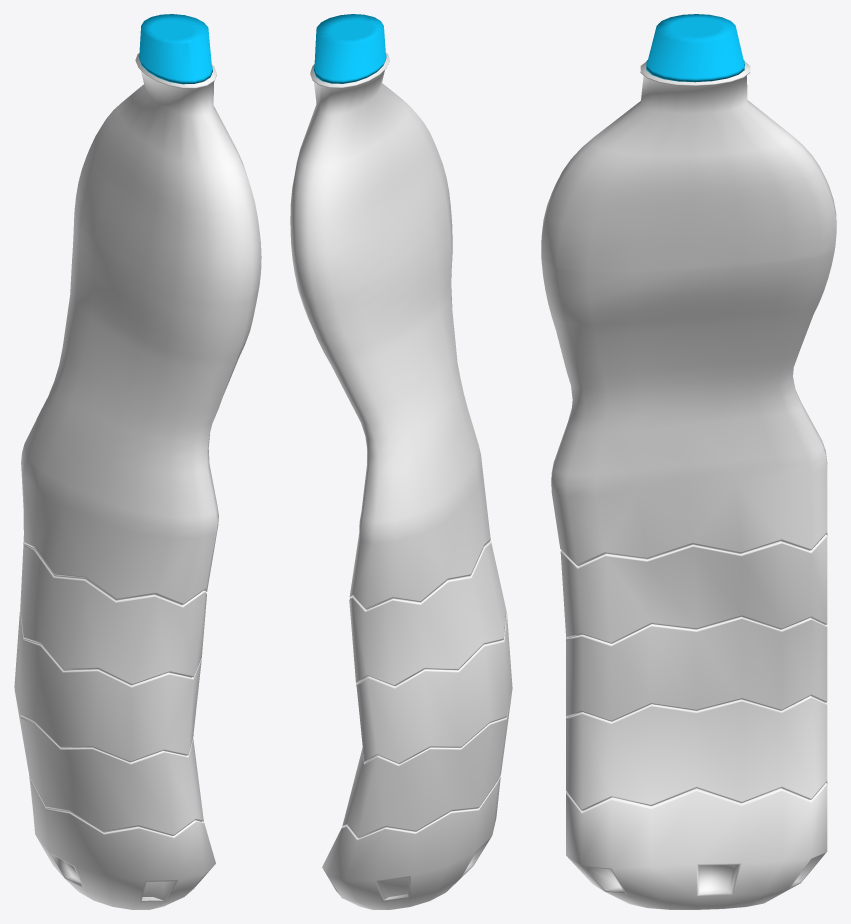
File: chai8.glb
3 views of the same model, side by side, from view 1: azimuth 30°, elevation 25°; view 2: azimuth 150°, elevation 25°; view 3: azimuth 270°, elevation 25° (orthographic). The views are drawn at different scales.
Visible parts, largest first — view 1: Cylinder001_Blue bottle_0, Cylinder001_Blue Cap_0; view 2: Cylinder001_Blue bottle_0, Cylinder001_Blue Cap_0; view 3: Cylinder001_Blue bottle_0, Cylinder001_Blue Cap_0.
Boxes of the visible parts, left/top/right/bottom form: Cylinder001_Blue bottle_0: left=14, top=53, right=261, bottom=909; Cylinder001_Blue Cap_0: left=138, top=14, right=212, bottom=84; Cylinder001_Blue bottle_0: left=290, top=52, right=512, bottom=909; Cylinder001_Blue Cap_0: left=313, top=14, right=386, bottom=83; Cylinder001_Blue bottle_0: left=541, top=61, right=836, bottom=909; Cylinder001_Blue Cap_0: left=646, top=14, right=744, bottom=82.
Size of the model in its own units: 0.0168 by 0.0769 by 0.023.
